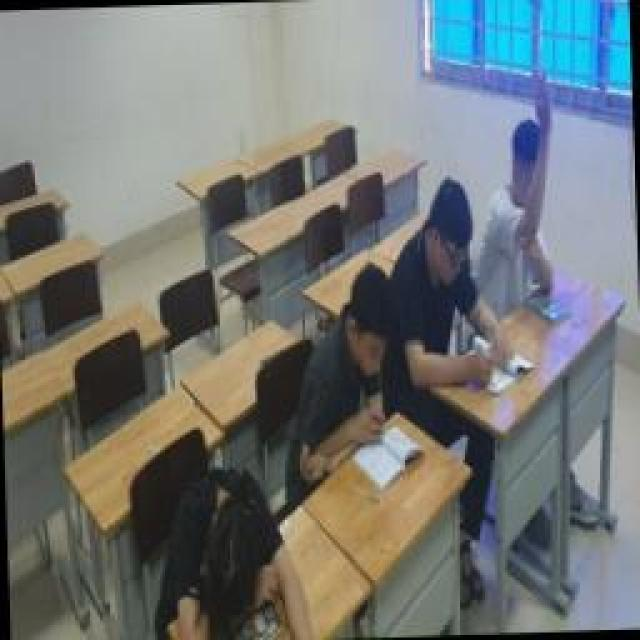study: (380, 172, 508, 392), (290, 265, 402, 473), (475, 72, 563, 310)
